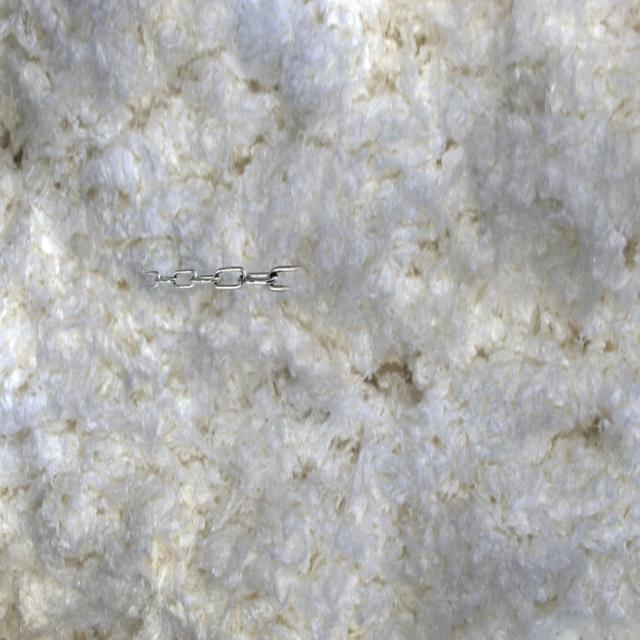dust: (131, 215, 314, 374)
